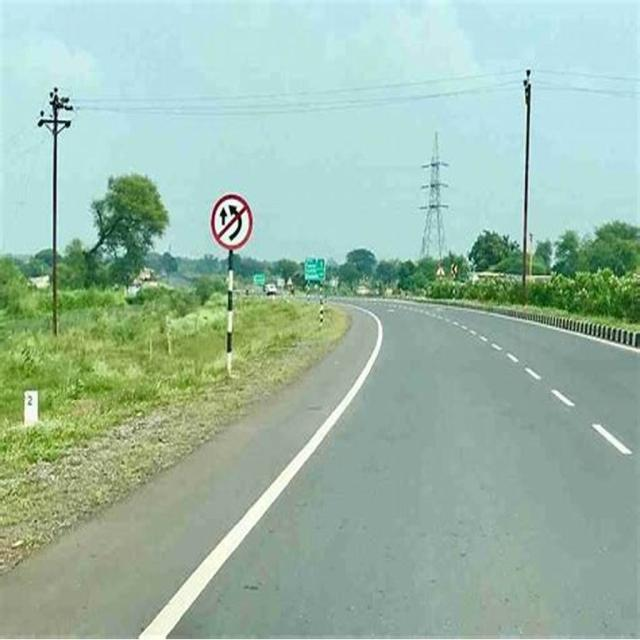No_overtaking: (212, 195, 252, 252)
